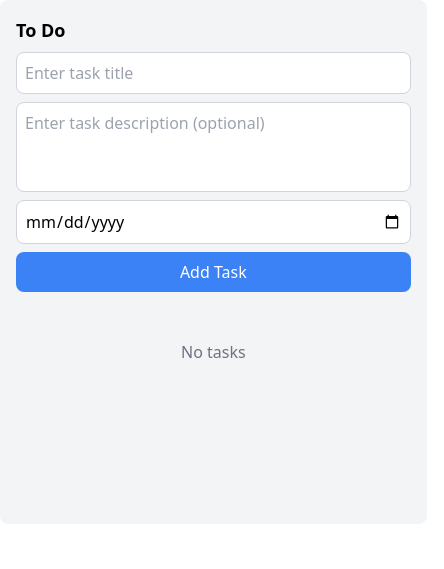
Test: List component – task creation › shows validation error when title is empty
This screenshot has width=444, height=569.
Click the button "Add Task": click(213, 272) [16, 252, 411, 292]
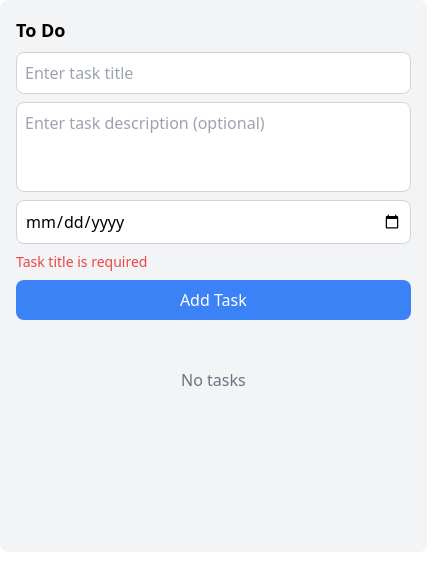
Result: the text "Task title is required" is shown at [16, 252, 148, 271]
